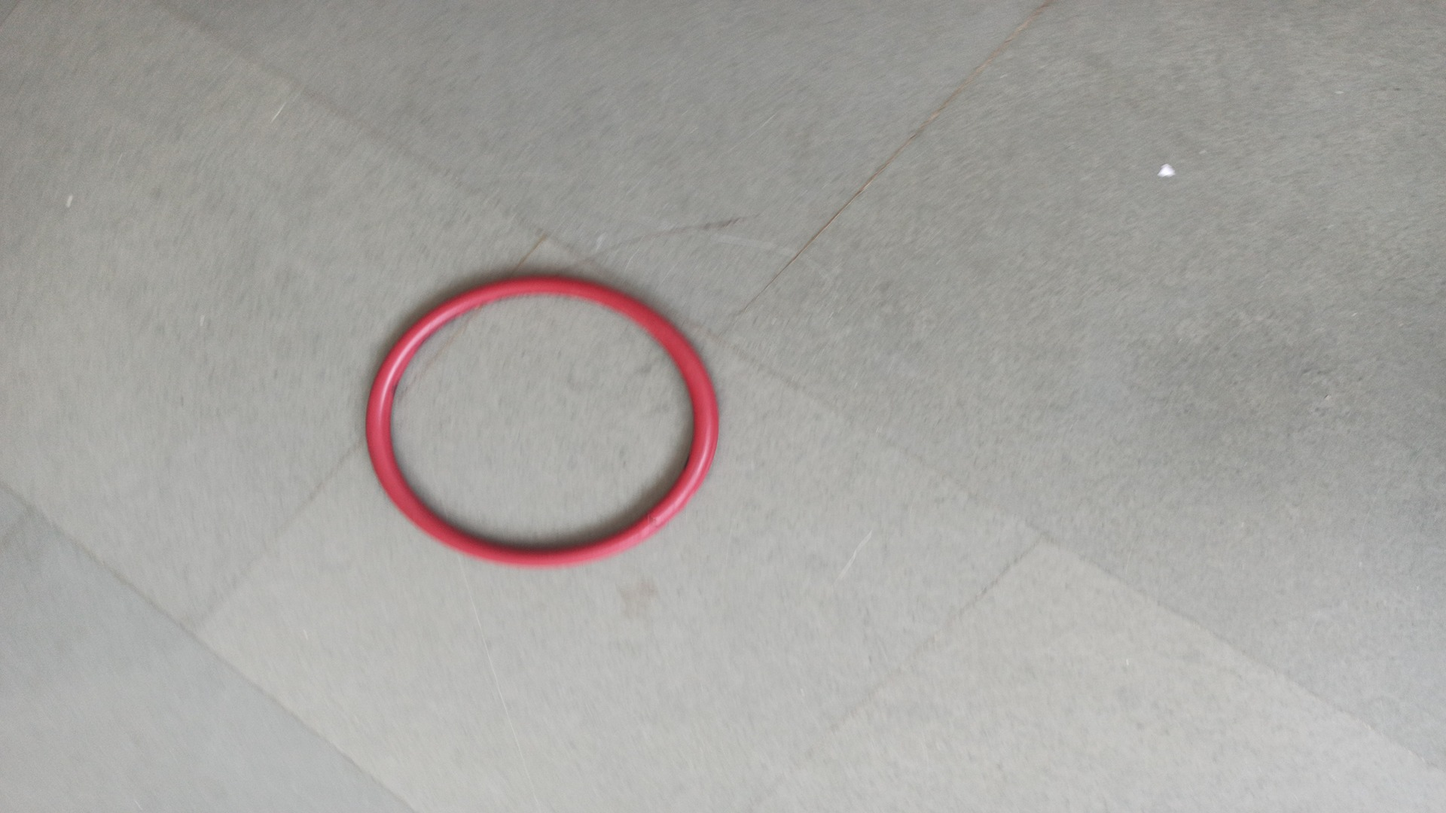Red ring: (364, 275, 718, 565)
